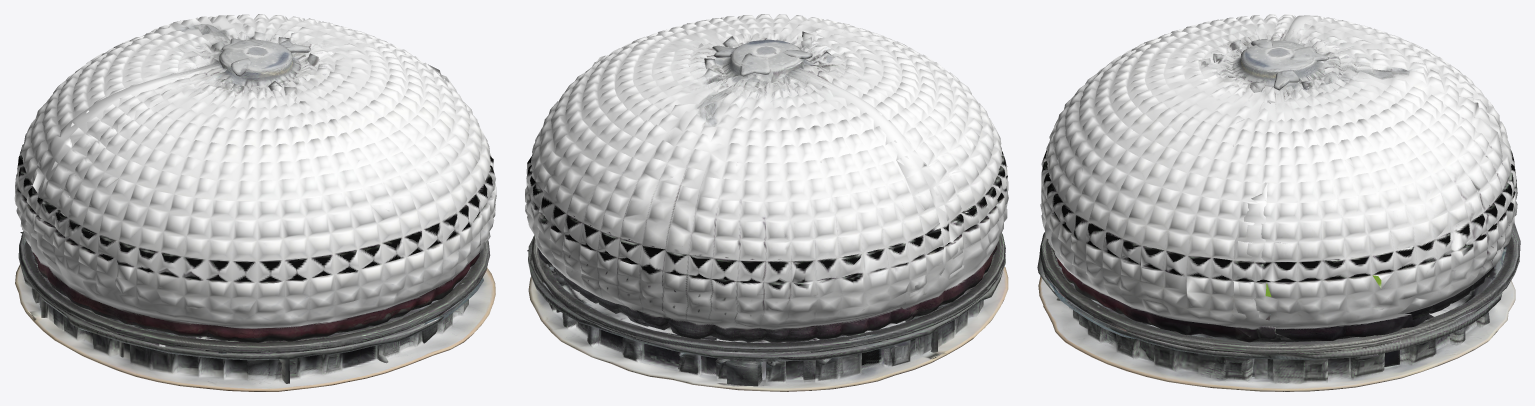
Rendered from tokyo_dome.glb.
3 renders of one model, left to right at view 1: azimuth 30°, elevation 25°; view 2: azimuth 150°, elevation 25°; view 3: azimuth 270°, elevation 25°, orthographic.
Bounding box in the file's own units: 1.9 × 1.06 × 1.91.
Materials: 1 (1 with a texture image).
